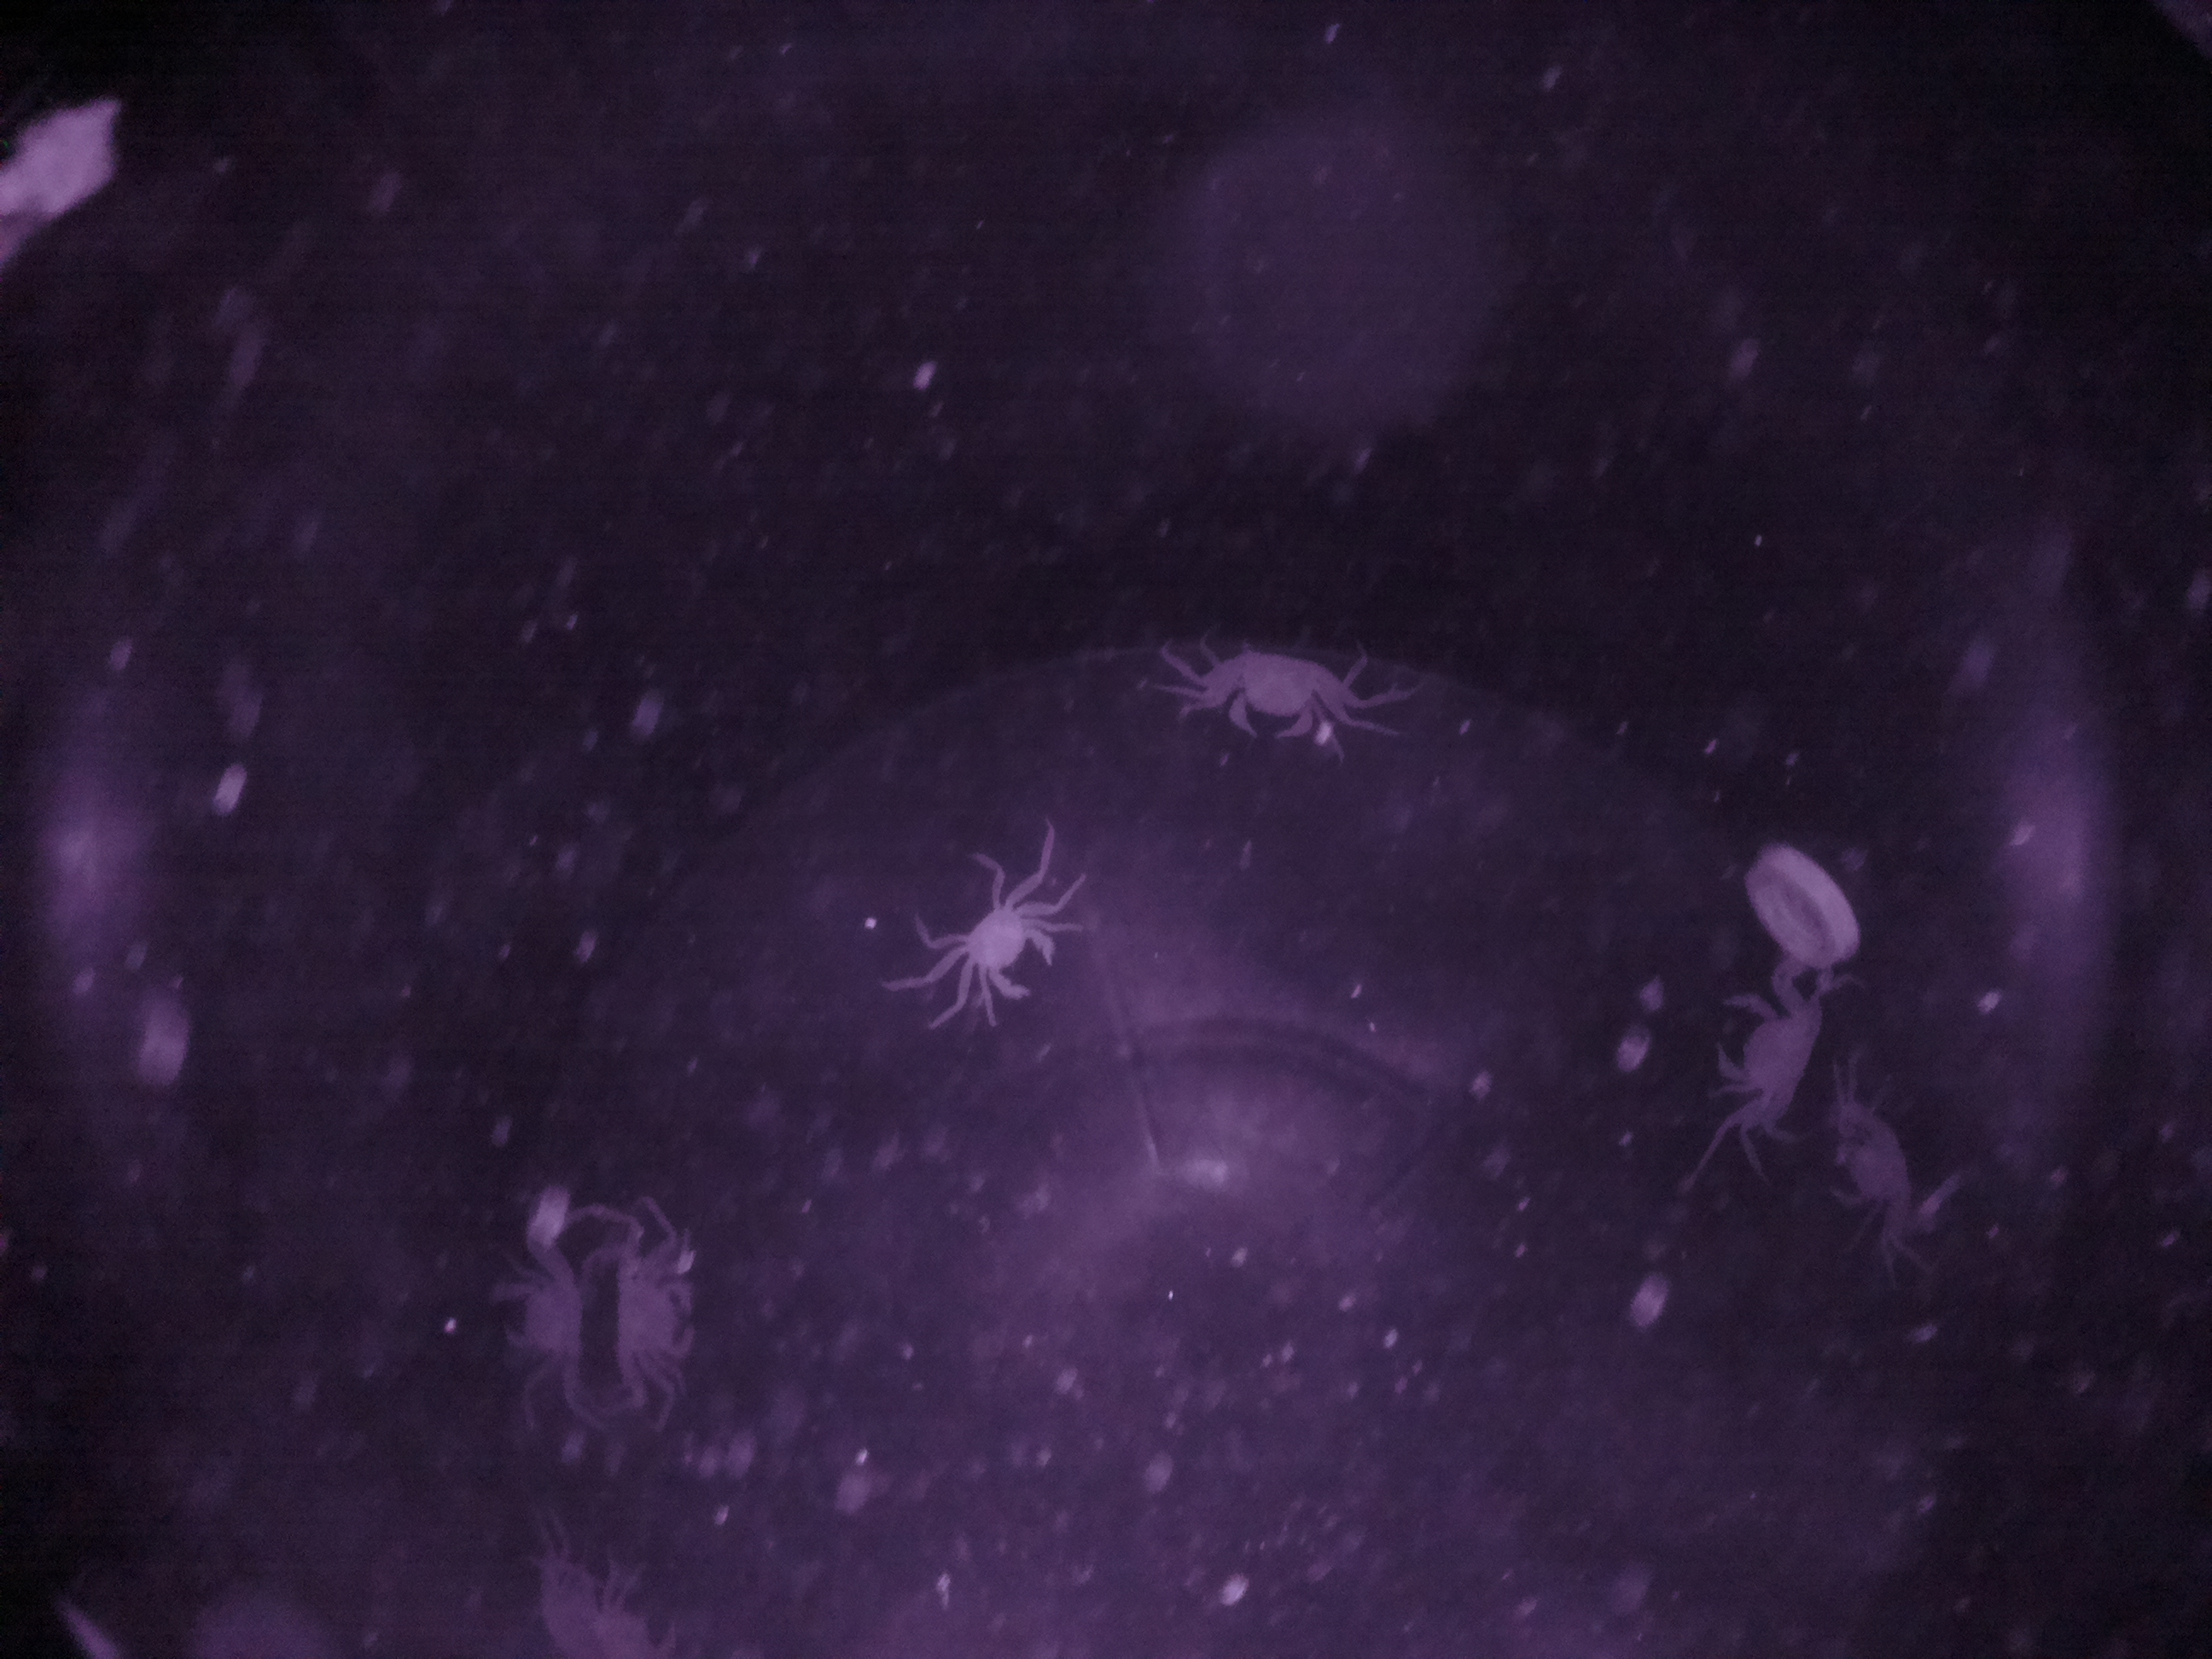Crab: (1691, 958, 1836, 1131), (1188, 627, 1372, 760), (475, 1216, 596, 1413), (923, 875, 1073, 1028), (610, 1239, 723, 1419)
